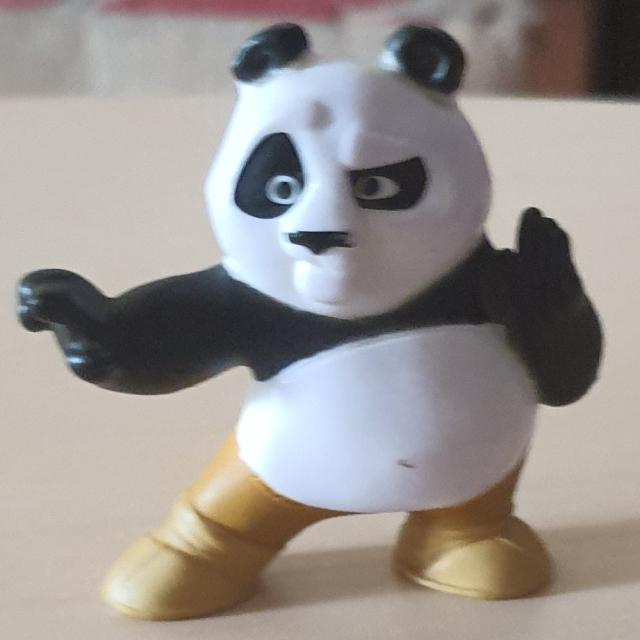Panda: (14, 19, 604, 622)
